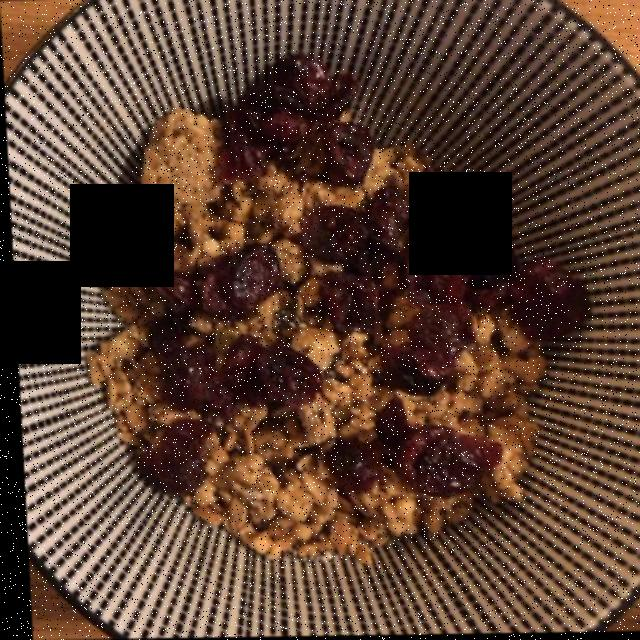crunch-muesli: (96, 102, 550, 558)
